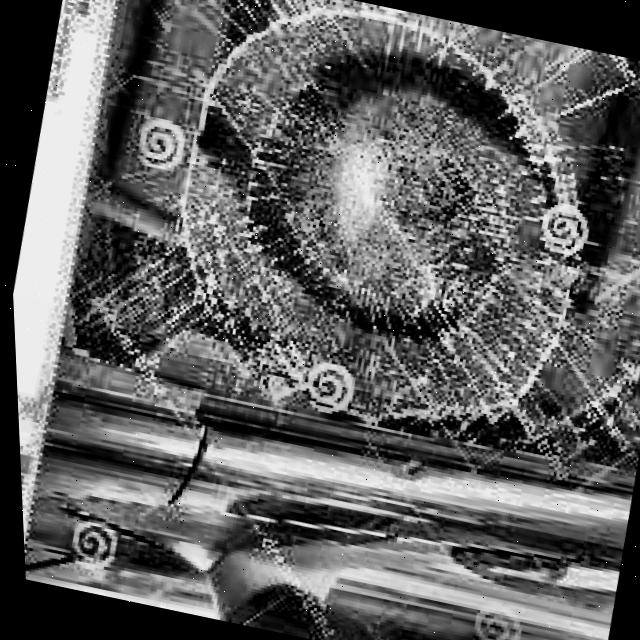glass_shatter: (275, 96, 507, 338)
